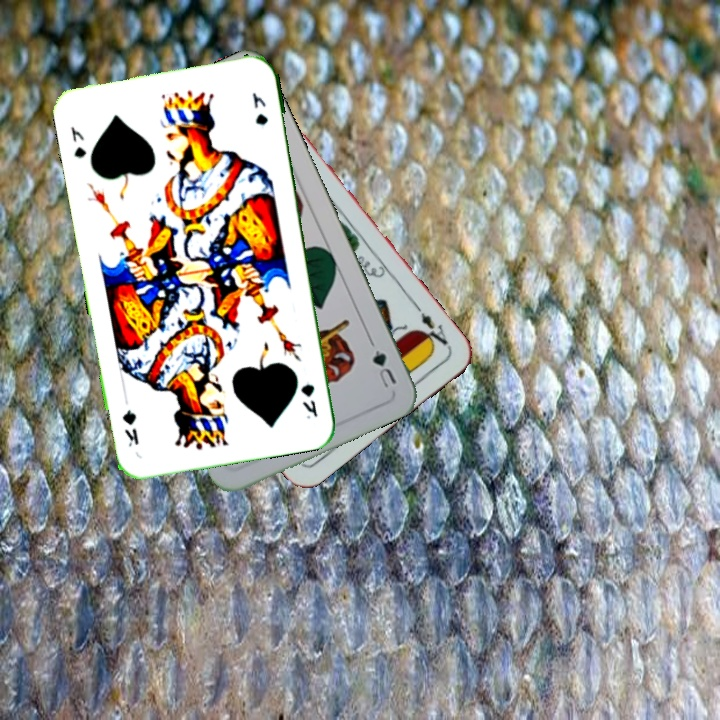EA: (411, 300, 453, 352)
GK: (297, 379, 321, 422), (66, 122, 89, 161)
GU: (368, 345, 399, 392)
